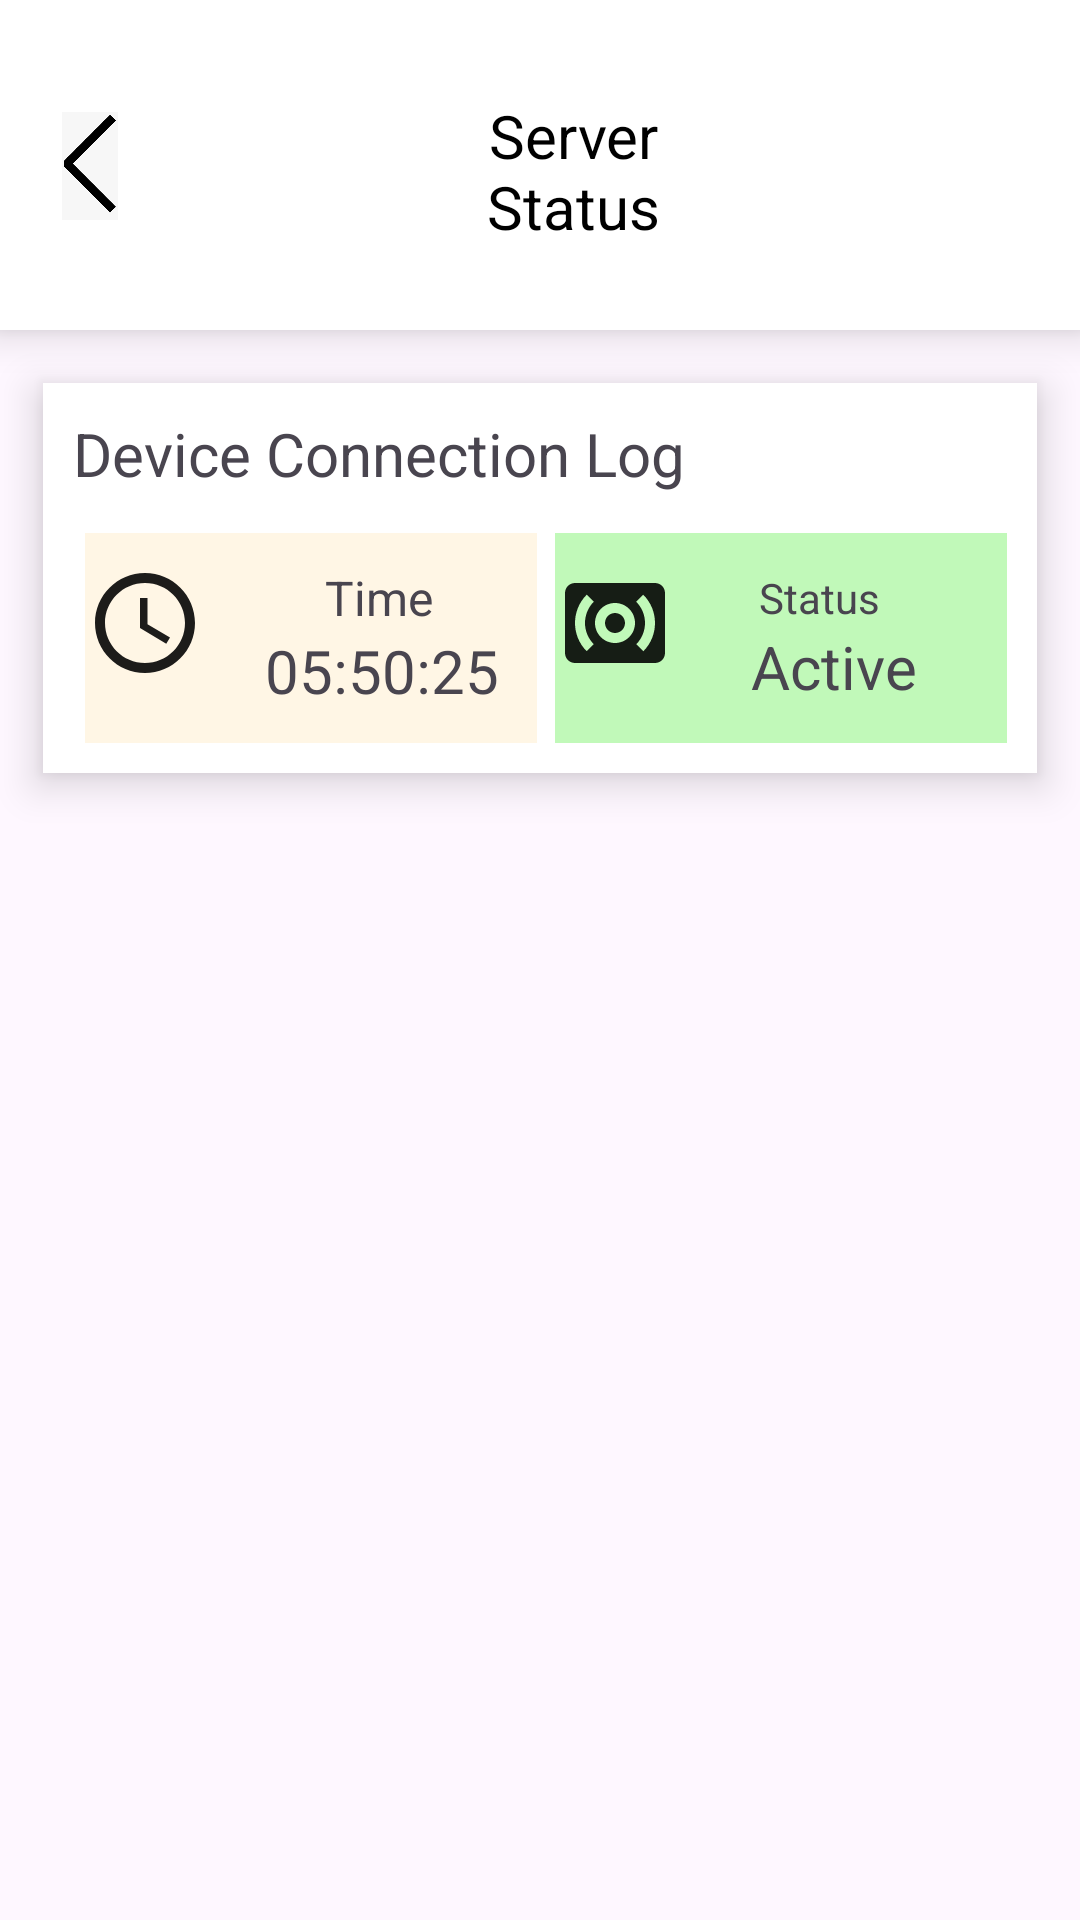

Named icons in this screenshot (1080*1920) and their bounding boxes, box=[x1, y1, x2, y2]:
surround sound: box=[565, 583, 665, 663]
